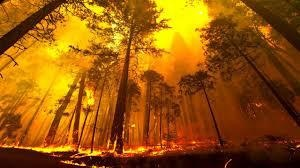fire: (2, 1, 220, 155)
